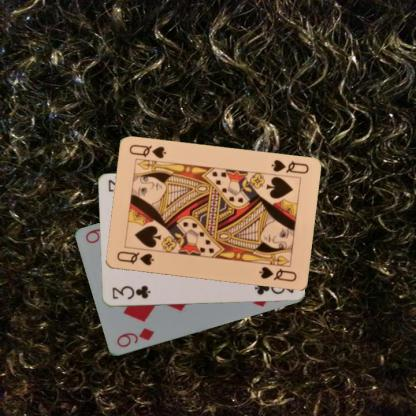3c: (110, 282, 151, 300)
9d: (114, 325, 155, 349)
Qs: (268, 157, 310, 175), (114, 249, 155, 267)
